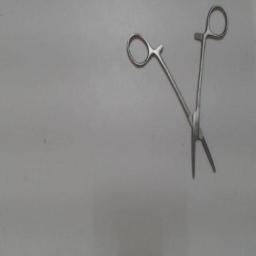Mayo Needle Holder: (122, 2, 230, 186)
